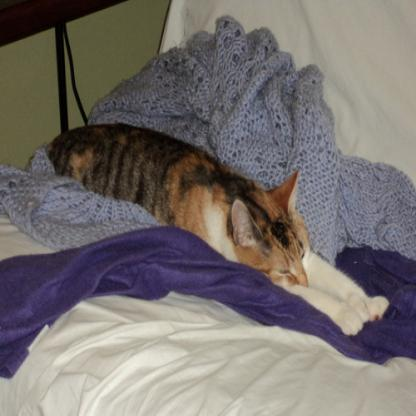Target: (41, 111, 388, 339)
